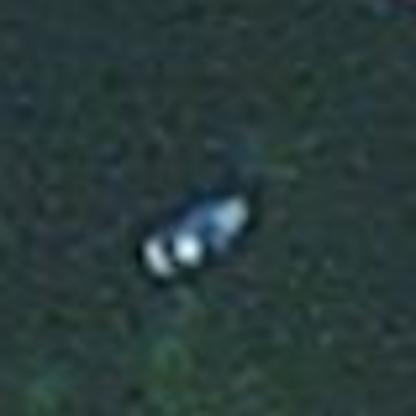ship: (127, 178, 288, 296)
